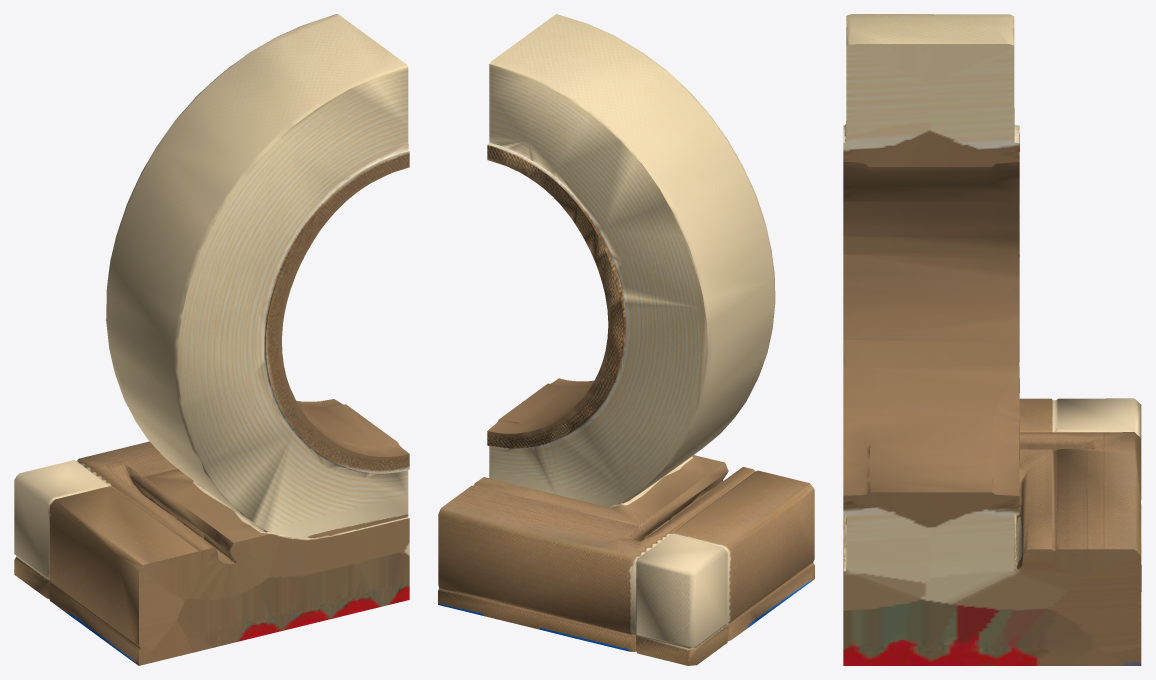
Rendered from 15-topper-back-left.fbx.
3 renders of one model, left to right at view 1: azimuth 30°, elevation 25°; view 2: azimuth 150°, elevation 25°; view 3: azimuth 270°, elevation 25°, orthographic. The views are drawn at different scales.
Parts seen in each view (by area): view 1: topper-back-left; view 2: topper-back-left; view 3: topper-back-left.
Part boxes in pixels (box(x1,y1,x2,y2)): topper-back-left: box(14, 14, 409, 665); topper-back-left: box(438, 14, 814, 665); topper-back-left: box(843, 14, 1141, 665).
Size of the model in its own units: 5045 by 9492 by 4125.
Materials: 1 (1 with a texture image).
